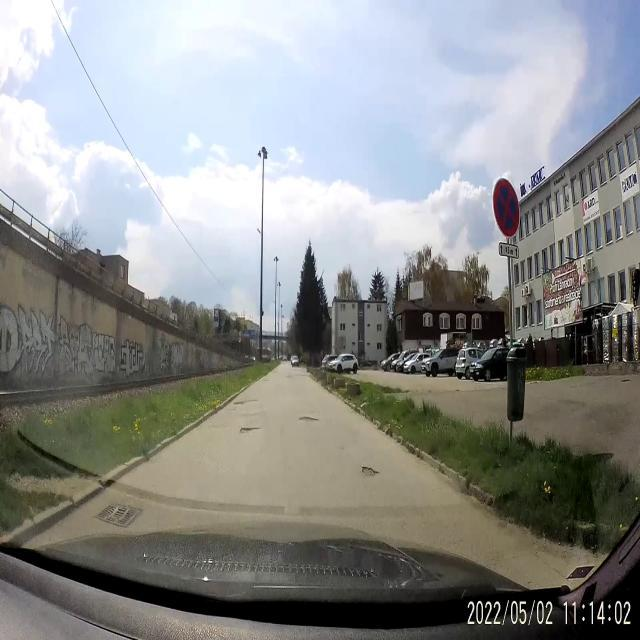Manhole: (94, 496, 148, 534)
Pothole: (353, 459, 381, 489), (230, 389, 260, 412), (232, 420, 266, 440), (296, 408, 322, 431)
